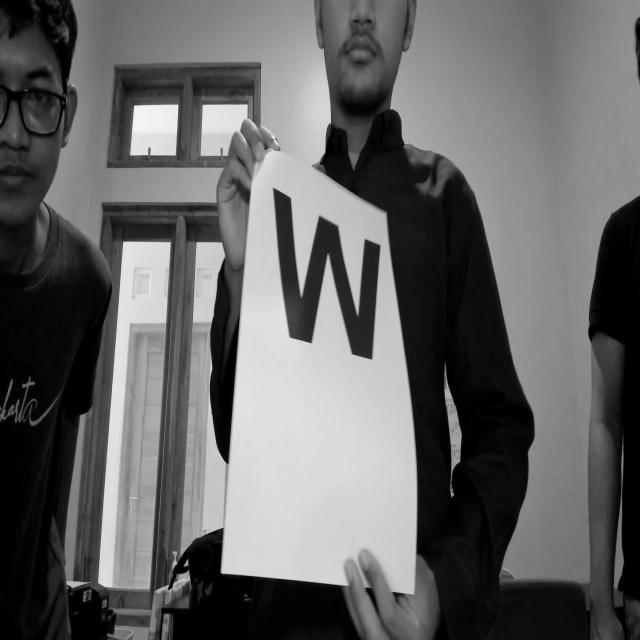w: (266, 184, 399, 370)
